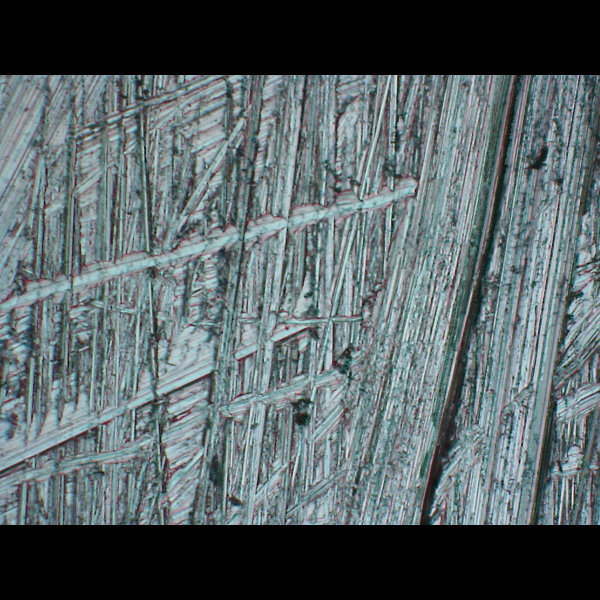d: (6, 77, 600, 524)
